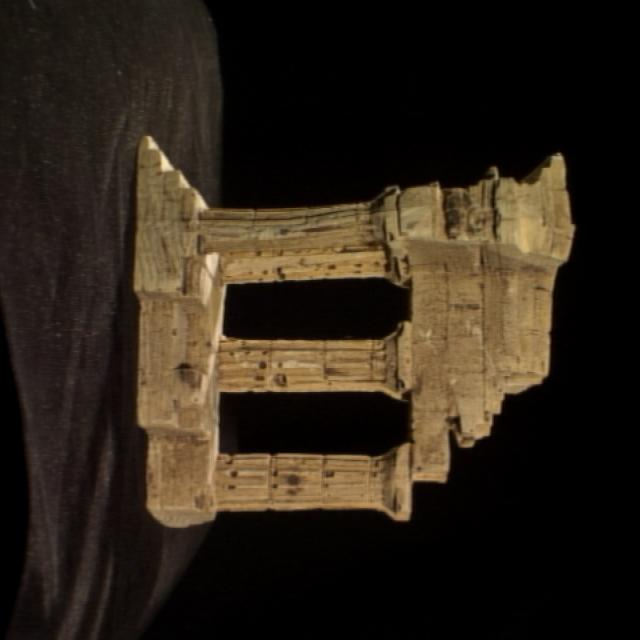Instance-Segmentation: (134, 136, 573, 525)
